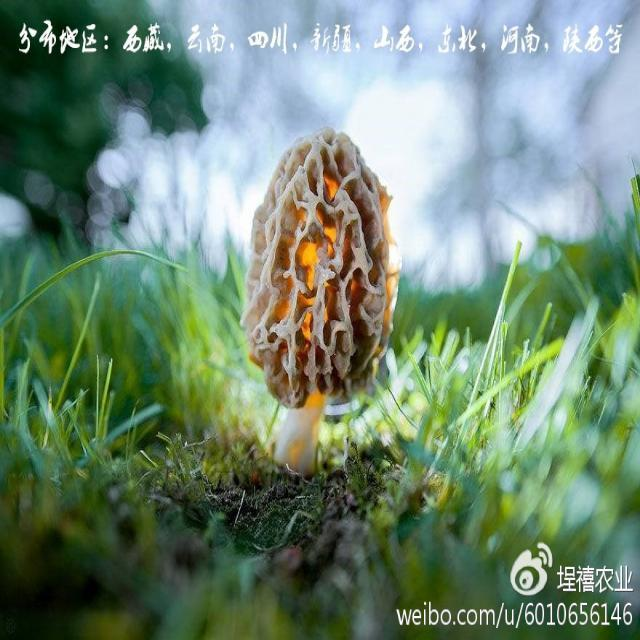Morchella esculenta: (247, 129, 401, 476)
